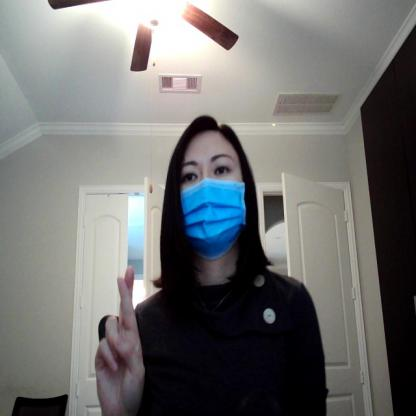right: (90, 263, 151, 415)
